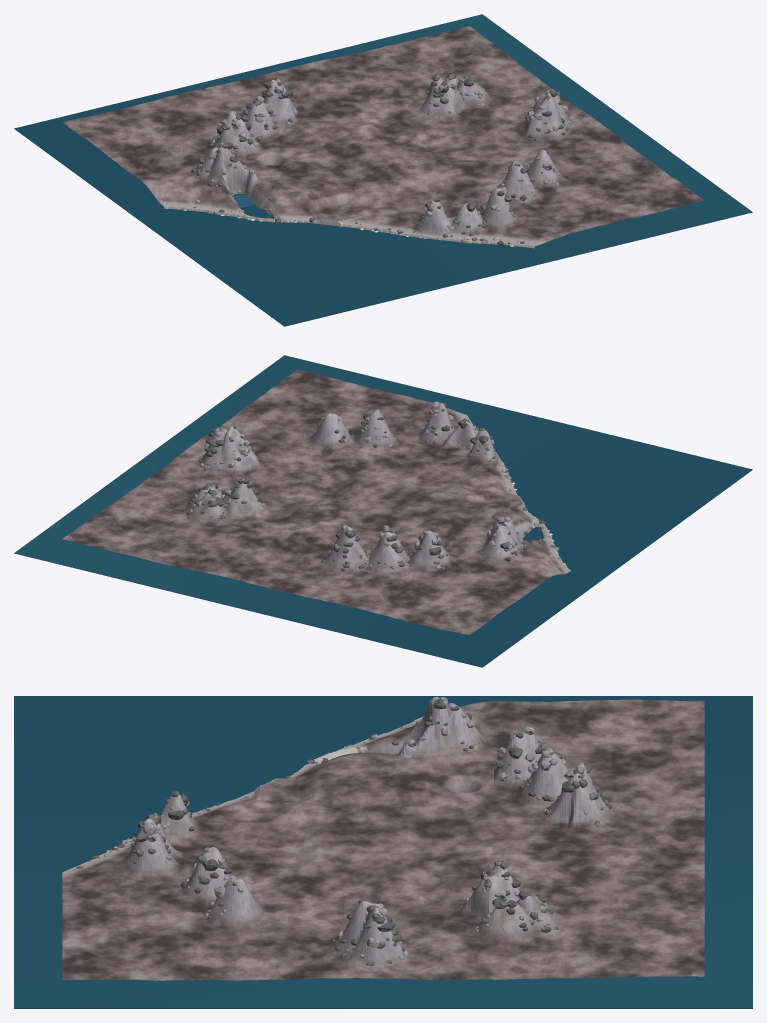
Rendered from Terrain_P3.fbx.
The picture shows the model from 3 angles, top to bottom: view 1: azimuth 30°, elevation 25°; view 2: azimuth 150°, elevation 25°; view 3: azimuth 270°, elevation 25°; orthographic projection. The views are drawn at different scales.
Parts seen in each view (by area): view 1: Ground, Sea; view 2: Ground, Sea; view 3: Ground, Sea.
Part boxes in pixels (x1=…): Ground: x1=62, y1=26, x2=704, y2=248; Sea: x1=14, y1=14, x2=752, y2=326; Ground: x1=62, y1=369, x2=571, y2=635; Sea: x1=14, y1=355, x2=752, y2=667; Ground: x1=62, y1=699, x2=704, y2=980; Sea: x1=14, y1=696, x2=752, y2=1008.
Bounding box in the file's own units: 73600 × 8997 × 73600.
